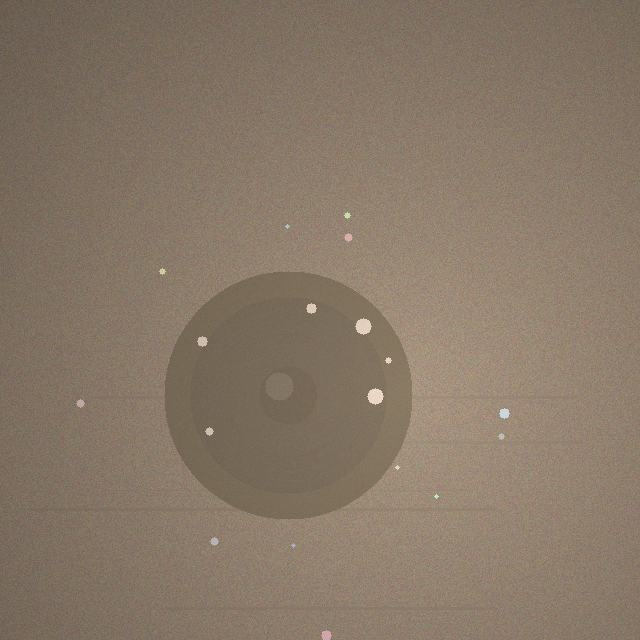overburn: (164, 271, 412, 519)
